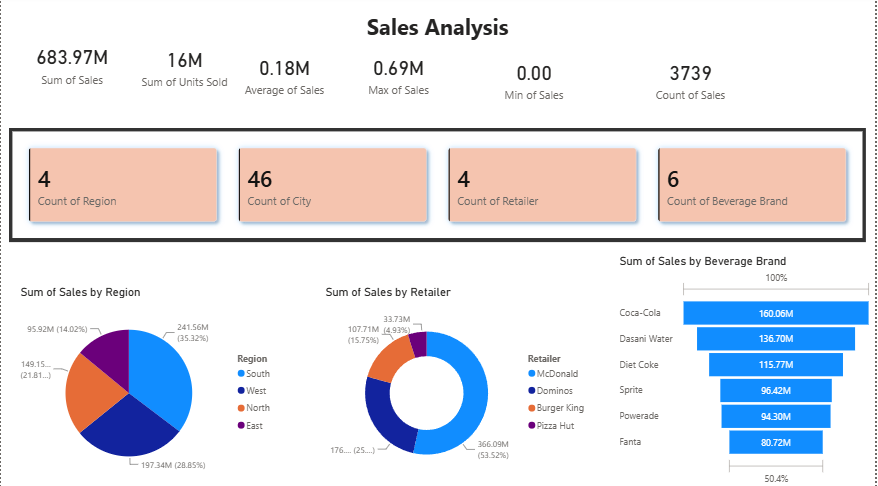

The dashboard page shown, as its layout file describes it:
{"tool":"powerbi","page":{"name":"Page 1","canvas":[1280,720],"ordinal":0},"visuals":[{"type":"pieChart","fields":{"Category":["BV India.Region"],"Y":["Sum(BV India.Sales)"]},"box":[23.5,423.3,391.4,297.3],"z":0},{"type":"donutChart","fields":{"Category":["BV India.Retailer"],"Y":["Sum(BV India.Sales)"]},"box":[470.3,423.3,398.1,297.3],"z":1000},{"type":"funnel","fields":{"Category":["BV India.Beverage Brand"],"Y":["Sum(BV India.Sales)"]},"box":[900.4,378,379.6,342.7],"z":2000},{"type":"card","fields":{"Values":["Sum(BV India.Sales)"]},"box":[23.4,58.5,161,79],"z":3000},{"type":"card","fields":{"Values":["Sum(BV India.Units Sold)"]},"box":[184.4,58.5,168.3,86.3],"z":4000},{"type":"card","fields":{"Values":["Avg(BV India.Sales)"]},"box":[333.7,74.6,162.4,77.6],"z":5000},{"type":"card","fields":{"Values":["Max(BV India.Sales)"]},"box":[493.2,74.6,177.1,77.6],"z":6000},{"type":"card","fields":{"Values":["Min(BV India.Sales)"]},"box":[692.2,74.6,175.6,92.2],"z":7000},{"type":"card","fields":{"Values":["CountNonNull(BV India.Sales)"]},"box":[920.5,74.6,177.1,92.2],"z":8000},{"type":"cardVisual","fields":{"Data":["Count(BV India.Region)","Count(BV India.City)","Count(BV India.Retailer)","Count(BV India.Beverage Brand)"]},"box":[11.7,193.2,1254.1,166.8],"z":9000},{"type":"textbox","box":[11.7,17.6,1254.1,57.1],"z":9001}]}

Visuals, with their boxes in screenshot pixels (x1, y1, x2, y2), scaled from the page's 1280x720 canvas onto the 878x486 screenshot:
pieChart - BV India.Region x Sum(BV India.Sales): x1=16 y1=286 x2=285 y2=485
donutChart - BV India.Retailer x Sum(BV India.Sales): x1=323 y1=286 x2=596 y2=485
funnel - BV India.Beverage Brand x Sum(BV India.Sales): x1=618 y1=255 x2=877 y2=485
card - Sum(BV India.Sales): x1=16 y1=39 x2=126 y2=93
card - Sum(BV India.Units Sold): x1=126 y1=39 x2=242 y2=98
card - Avg(BV India.Sales): x1=229 y1=50 x2=340 y2=103
card - Max(BV India.Sales): x1=338 y1=50 x2=460 y2=103
card - Min(BV India.Sales): x1=475 y1=50 x2=595 y2=113
card - CountNonNull(BV India.Sales): x1=631 y1=50 x2=753 y2=113
cardVisual - Count(BV India.Region) x Count(BV India.City): x1=8 y1=130 x2=868 y2=243
textbox: x1=8 y1=12 x2=868 y2=50
